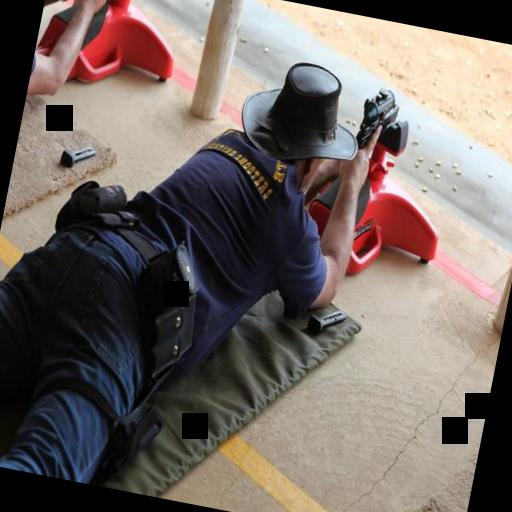Handgun: (350, 78, 412, 164)
